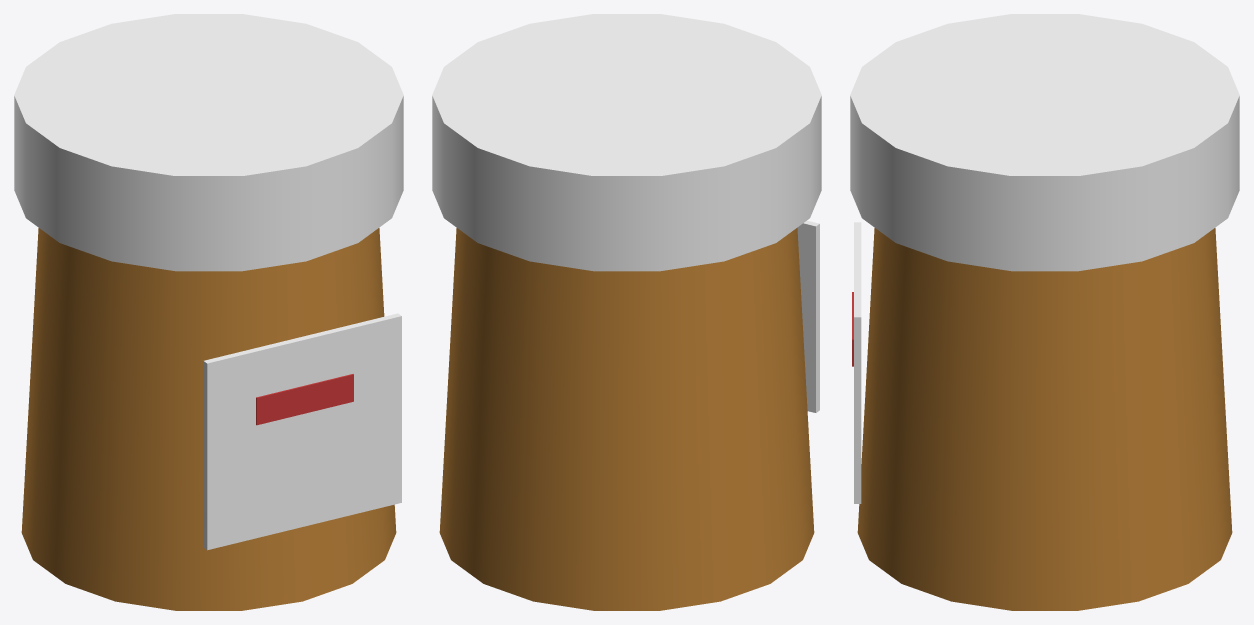
Rendered from item_meds.fbx.
3 renders of one model, left to right at view 1: azimuth 30°, elevation 25°; view 2: azimuth 150°, elevation 25°; view 3: azimuth 270°, elevation 25°, orthographic.
Visible parts, largest first — view 1: M__item_meds; view 2: M__item_meds; view 3: M__item_meds.
Boxes of the visible parts, box(x1,y1,x2,y2) form: M__item_meds: box(14, 14, 403, 610); M__item_meds: box(432, 14, 821, 610); M__item_meds: box(850, 14, 1239, 610).
Bounding box in the file's own units: 0.1024 × 0.129 × 0.104.
